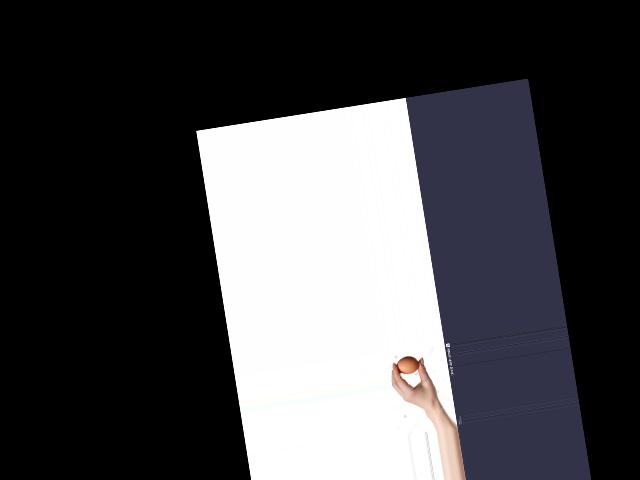egg: (396, 354, 420, 376)
